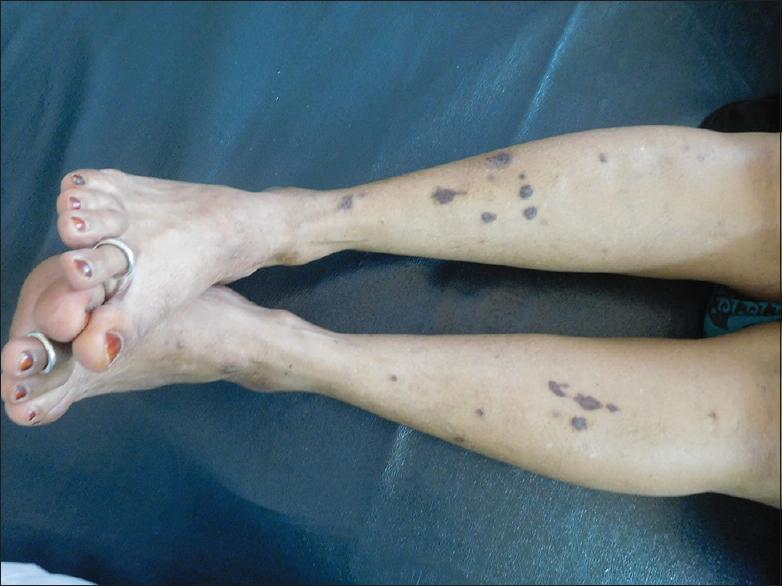hypertrophic lichen planus: (464, 351, 650, 462), (426, 155, 581, 233)
